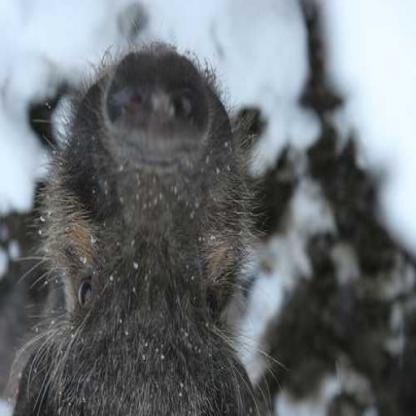boar: (0, 15, 311, 416)
